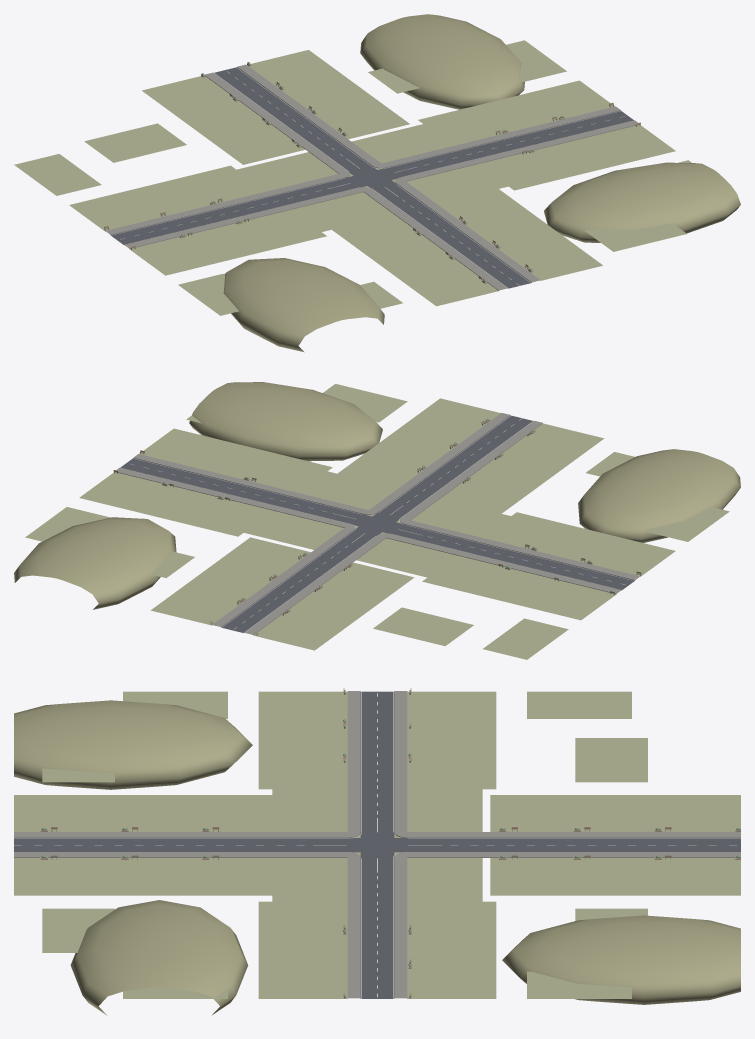
3 renders of one model, top to bottom at view 1: azimuth 30°, elevation 25°; view 2: azimuth 150°, elevation 25°; view 3: azimuth 270°, elevation 25°, orthographic. The views are drawn at different scales.
Parts seen in each view (by area): view 1: static; view 2: static; view 3: static.
Boxes of the visible parts, x1=… form: static: x1=14, y1=14, x2=740, y2=352; static: x1=14, y1=382, x2=740, y2=659; static: x1=14, y1=688, x2=740, y2=1015.
Size of what is drawn, in the model's own units: 180 by 14.08 by 180.
